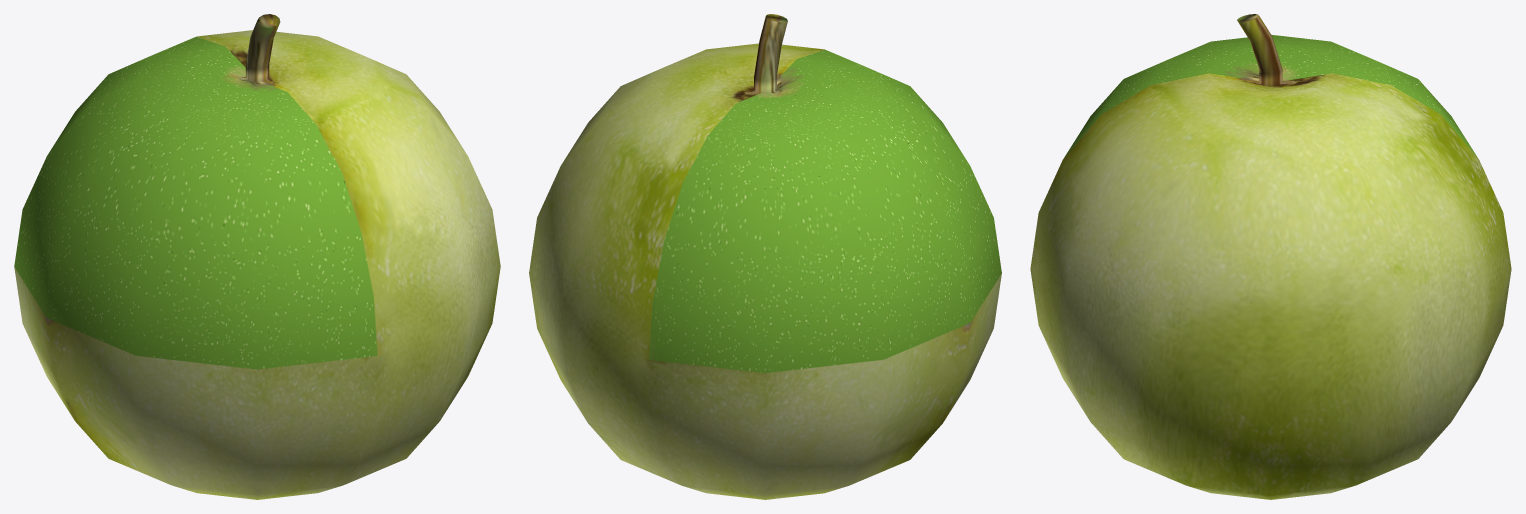
File: Feed_Apple_FBX.fbx
The picture shows the model from 3 angles, left to right: view 1: azimuth 30°, elevation 25°; view 2: azimuth 150°, elevation 25°; view 3: azimuth 270°, elevation 25°; orthographic projection. The views are drawn at different scales.
Parts seen in each view (by area): view 1: pSphere1; view 2: pSphere1; view 3: pSphere1.
Boxes of the visible parts, left/top/right/bottom form: pSphere1: left=14, top=14, right=500, bottom=499; pSphere1: left=529, top=14, right=1001, bottom=499; pSphere1: left=1030, top=14, right=1511, bottom=499.
Bounding box in the file's own units: 2 × 2.08 × 2.
1 material, 1 textured.
